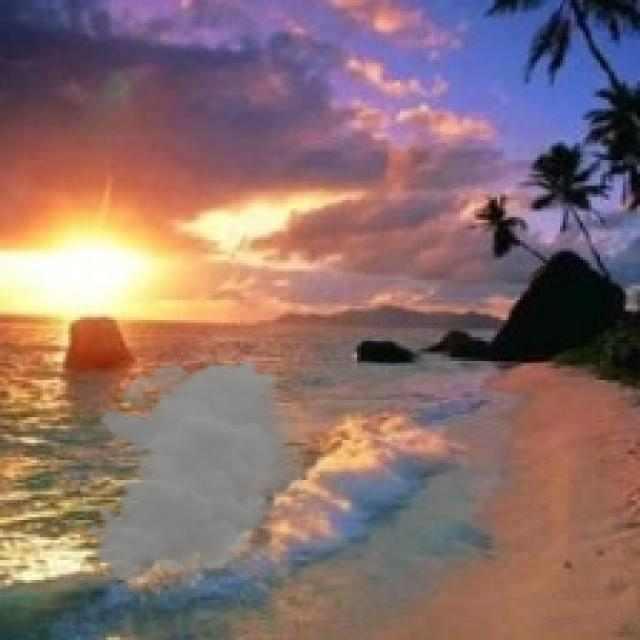Smoke: (86, 357, 312, 583)
